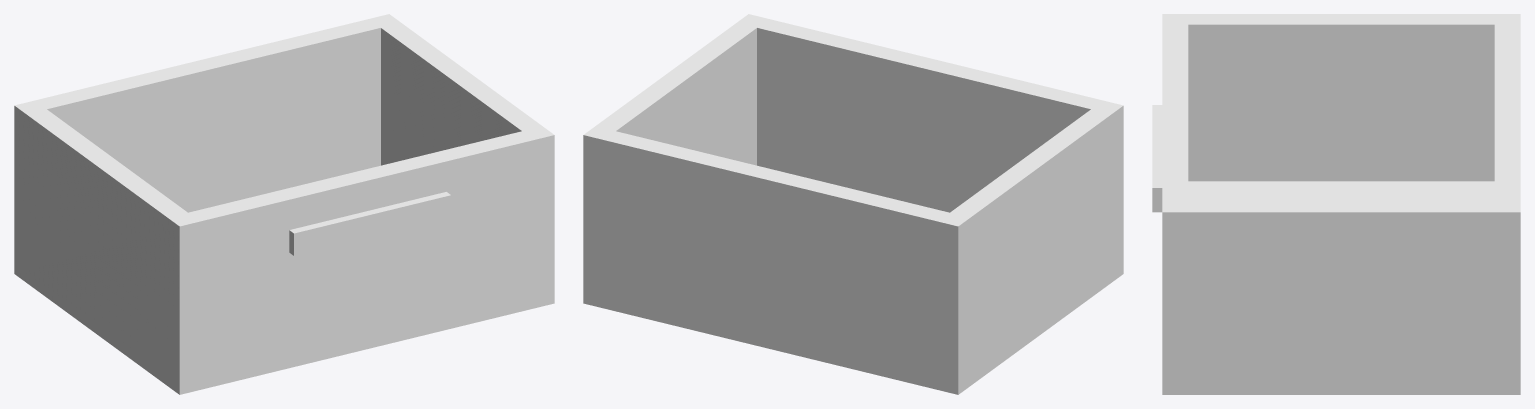
The model's file is Itr_Obj_Fridge1_Drawer1_01.FBX.
The picture shows the model from 3 angles, left to right: view 1: azimuth 30°, elevation 25°; view 2: azimuth 150°, elevation 25°; view 3: azimuth 270°, elevation 25°; orthographic projection. The views are drawn at different scales.
Parts seen in each view (by area): view 1: Itr_Obj_Fridge1_Drawer1_01; view 2: Itr_Obj_Fridge1_Drawer1_01; view 3: Itr_Obj_Fridge1_Drawer1_01.
Part boxes in pixels (left/top/right/bottom): Itr_Obj_Fridge1_Drawer1_01: left=14, top=14, right=554, bottom=394; Itr_Obj_Fridge1_Drawer1_01: left=583, top=14, right=1123, bottom=394; Itr_Obj_Fridge1_Drawer1_01: left=1152, top=14, right=1520, bottom=394.
Size of the model in its own units: 18.52 by 7.95 by 14.54.
